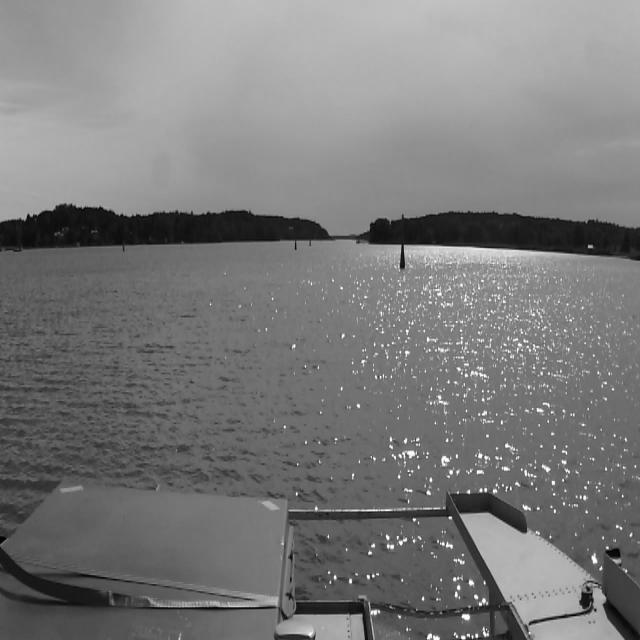buoy: (122, 238, 125, 254), (294, 234, 297, 250), (309, 234, 311, 247)
ship: (398, 238, 406, 271)
